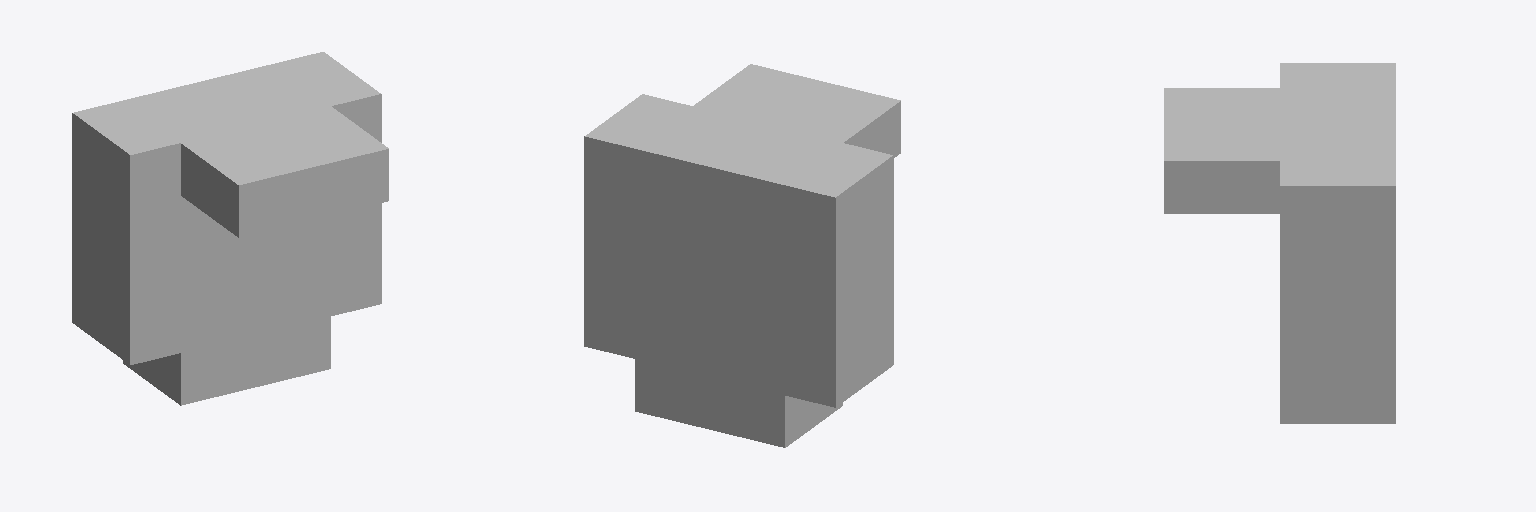
Rendered from E2-Exp-p06.obj.
3 views of the same model, side by side, from view 1: azimuth 30°, elevation 25°; view 2: azimuth 150°, elevation 25°; view 3: azimuth 270°, elevation 25° (orthographic).
Parts seen in each view (by area): view 1: mesh8, mesh9, mesh0, mesh13, mesh10, mesh2; view 2: mesh5, mesh9, mesh0, mesh10, mesh2; view 3: mesh7, mesh9, mesh12, mesh4.
Boxes of the visible parts, <box> form: mesh8: <box>130,94,381,405</box>; mesh9: <box>73,52,388,184</box>; mesh0: <box>72,113,129,364</box>; mesh13: <box>239,149,388,237</box>; mesh10: <box>181,144,238,237</box>; mesh2: <box>123,353,180,405</box>; mesh5: <box>584,136,835,447</box>; mesh9: <box>585,64,900,197</box>; mesh0: <box>836,155,893,406</box>; mesh10: <box>844,101,900,157</box>; mesh2: <box>785,396,842,447</box>; mesh7: <box>1280,186,1395,395</box>; mesh9: <box>1164,63,1395,185</box>; mesh12: <box>1164,161,1279,213</box>; mesh4: <box>1280,396,1395,423</box>.
Bounding box in the file's own units: 0.1 × 0.1 × 0.08.